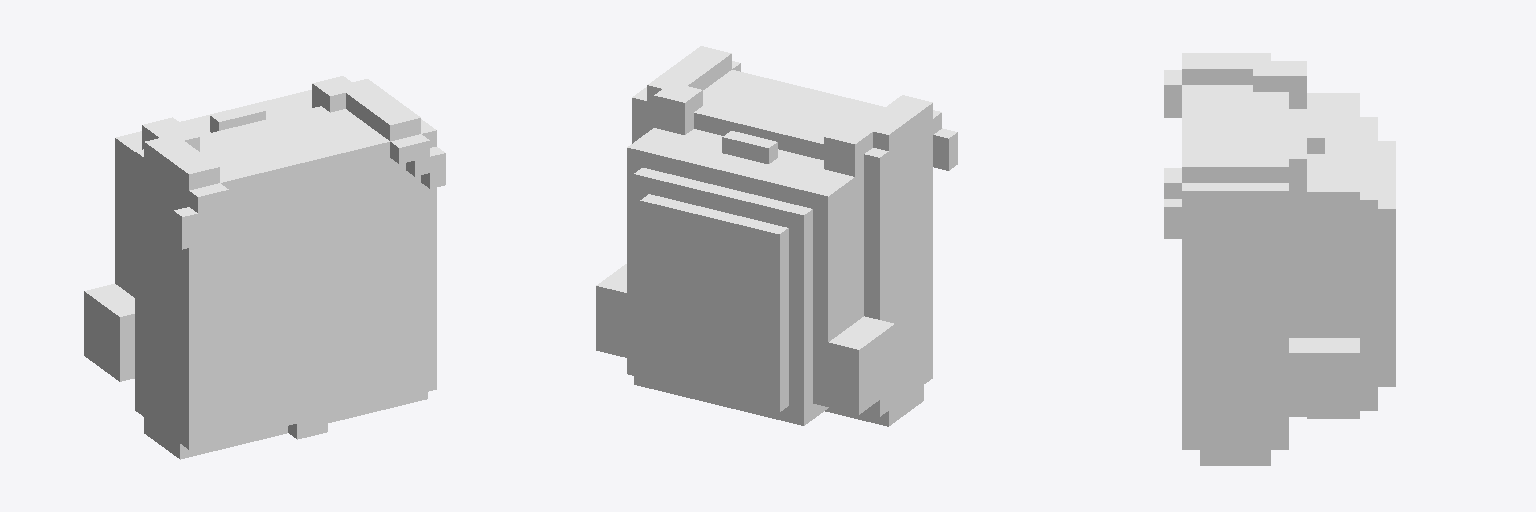
The model's file is CSHTRUN-5.obj.
3 renders of one model, left to right at view 1: azimuth 30°, elevation 25°; view 2: azimuth 150°, elevation 25°; view 3: azimuth 270°, elevation 25°, orthographic.
Parts seen in each view (by area): view 1: object 1; view 2: object 1; view 3: object 1.
Part boxes in pixels (bbox=[...]): object 1: bbox=[84, 76, 445, 459]; object 1: bbox=[596, 46, 957, 426]; object 1: bbox=[1164, 53, 1395, 465].
Bounding box in the file's own units: 1.7 × 1.8 × 1.3.